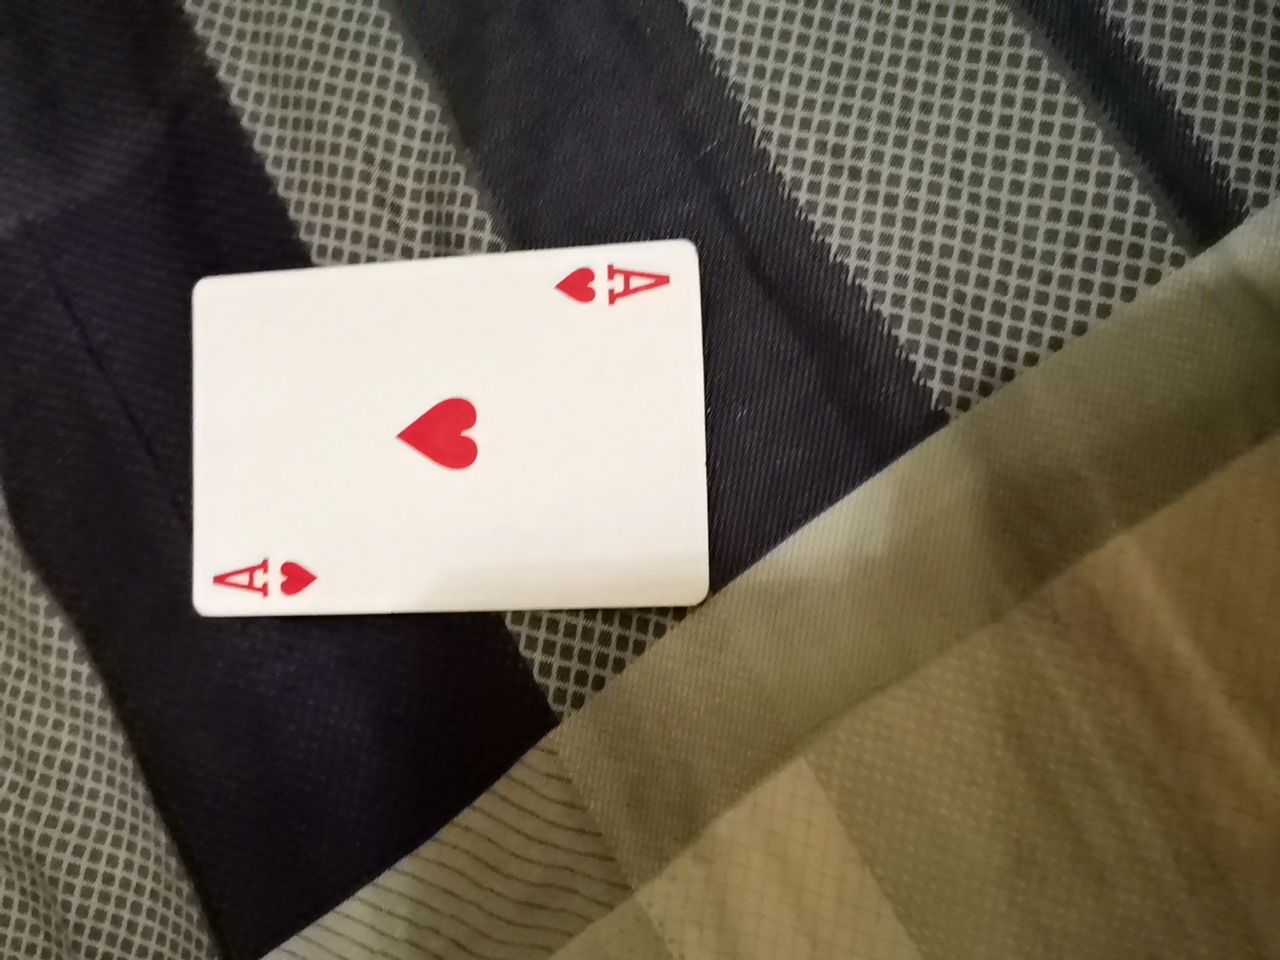hx a: (160, 221, 715, 611)
